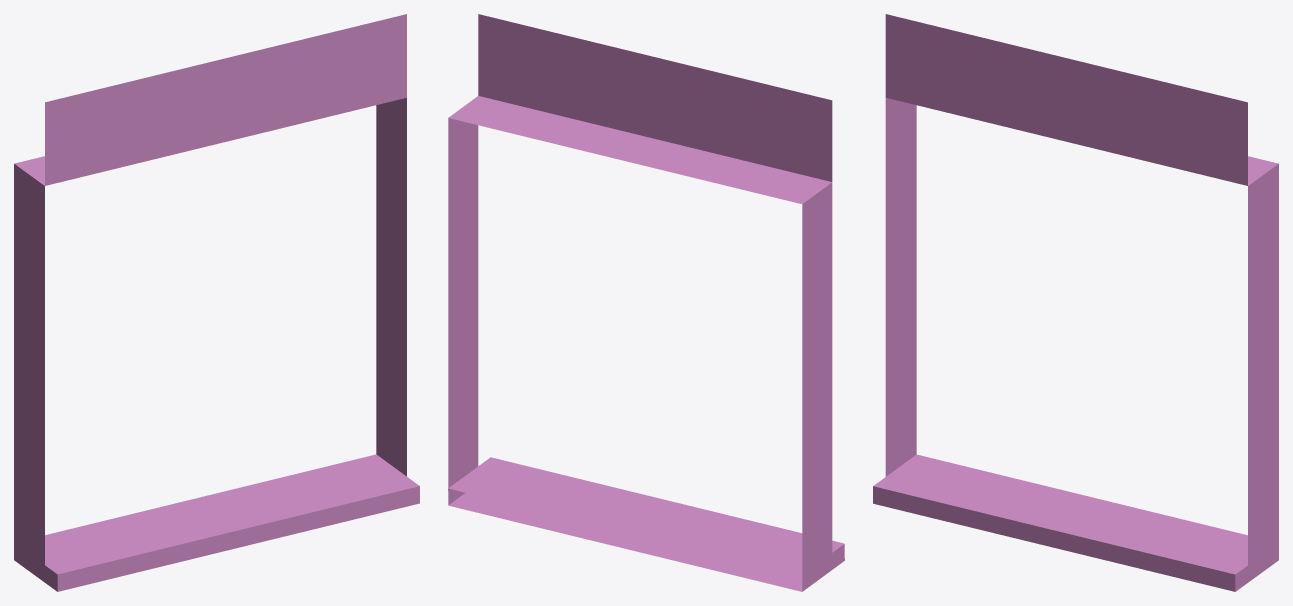
File: Itr_Wall_Color_11(for_window).FBX
The picture shows the model from 3 angles, left to right: view 1: azimuth 30°, elevation 25°; view 2: azimuth 150°, elevation 25°; view 3: azimuth 330°, elevation 25°; orthographic projection. The views are drawn at different scales.
Parts seen in each view (by area): view 1: Itr_Wall_Color_11(for_window); view 2: Itr_Wall_Color_11(for_window); view 3: Itr_Wall_Color_11(for_window).
Part boxes in pixels (box(x1,y1,x2,y2)): Itr_Wall_Color_11(for_window): box(14, 14, 419, 591); Itr_Wall_Color_11(for_window): box(448, 14, 844, 591); Itr_Wall_Color_11(for_window): box(873, 14, 1278, 591).
Bounding box in the file's own units: 65.28 × 82.71 × 13.59.
